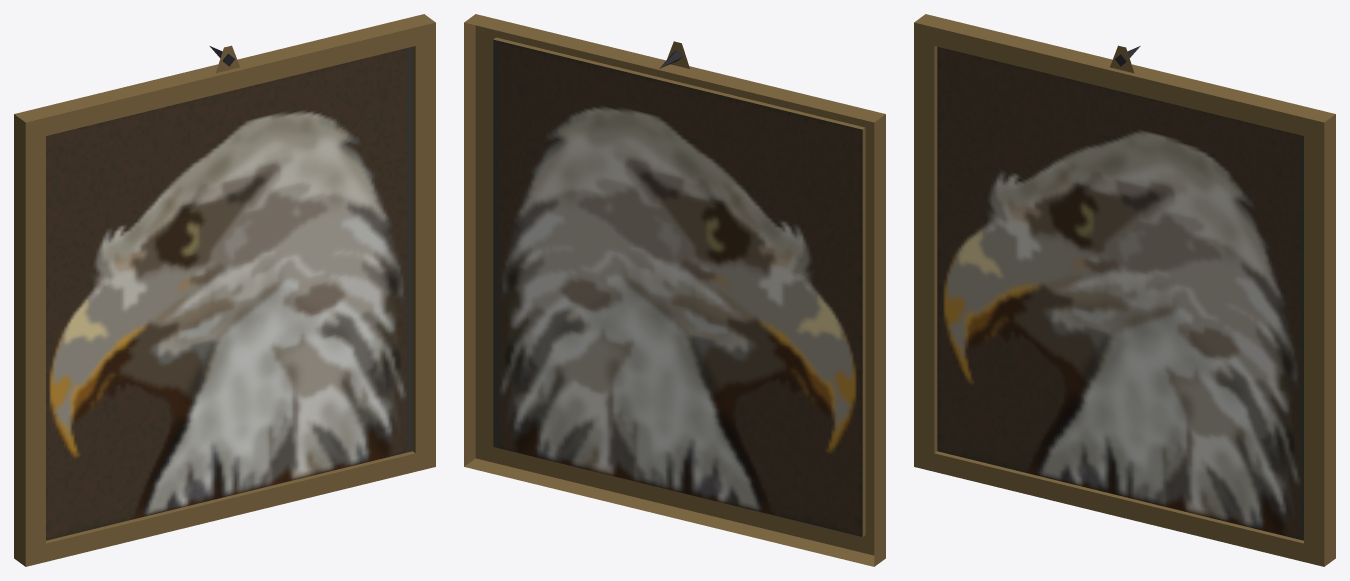
The model's file is Paint_2.fbx.
3 views of the same model, side by side, from view 1: azimuth 30°, elevation 25°; view 2: azimuth 150°, elevation 25°; view 3: azimuth 330°, elevation 25° (orthographic).
Parts seen in each view (by area): view 1: polySurface1520; view 2: polySurface1520; view 3: polySurface1520.
Part boxes in pixels (x1,y1,x2,y2): polySurface1520: (14,14,435,566); polySurface1520: (464,14,885,566); polySurface1520: (914,14,1335,566).
Size of the model in its own units: 122 by 133 by 11.26.
